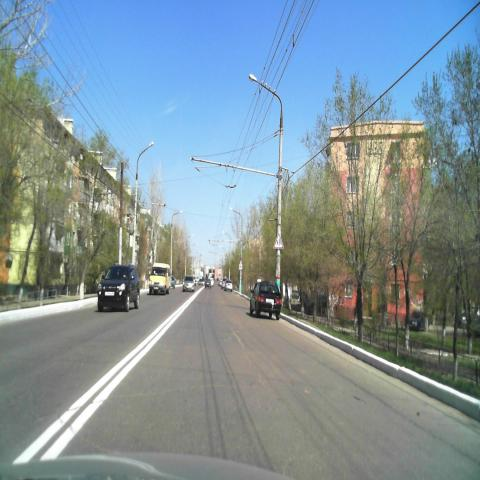1_23: (273, 234, 284, 250)
